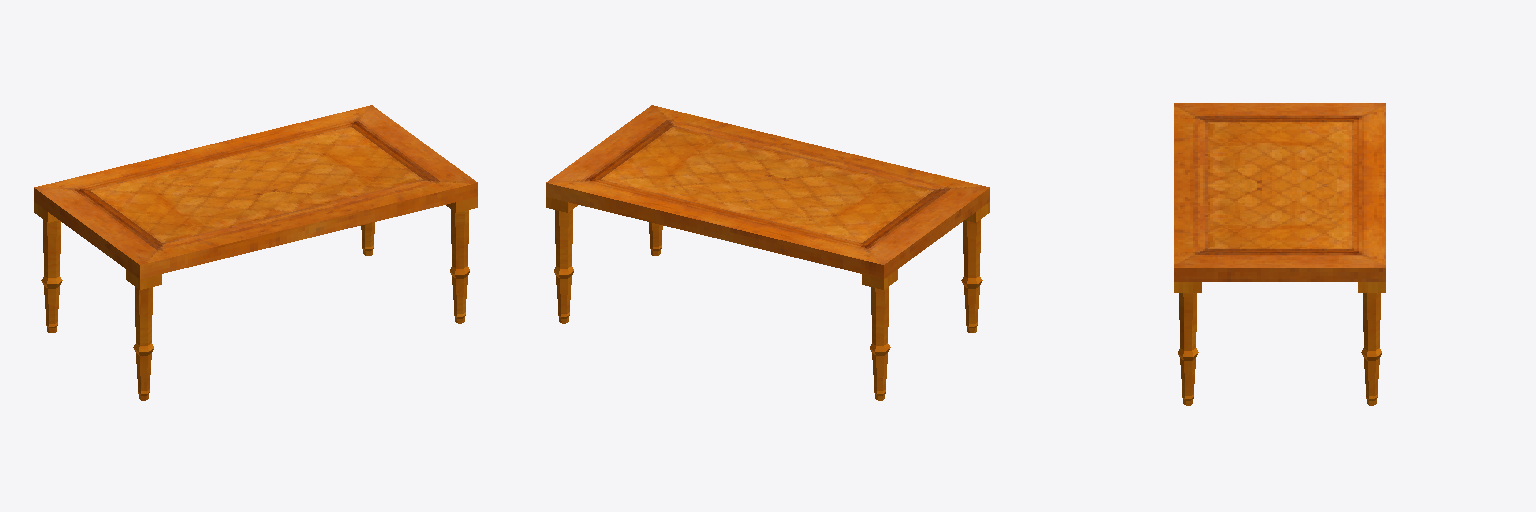
3 renders of one model, left to right at view 1: azimuth 30°, elevation 25°; view 2: azimuth 150°, elevation 25°; view 3: azimuth 270°, elevation 25°, orthographic.
Parts seen in each view (by area): view 1: Cube_Cube.001; view 2: Cube_Cube.001; view 3: Cube_Cube.001.
Part boxes in pixels (x1,y1,x2,y2): Cube_Cube.001: (34, 105, 477, 400); Cube_Cube.001: (546, 105, 989, 400); Cube_Cube.001: (1174, 103, 1385, 405).
Size of the model in its own units: 2.99 by 1.2 by 1.63.
1 materials, 1 textured.